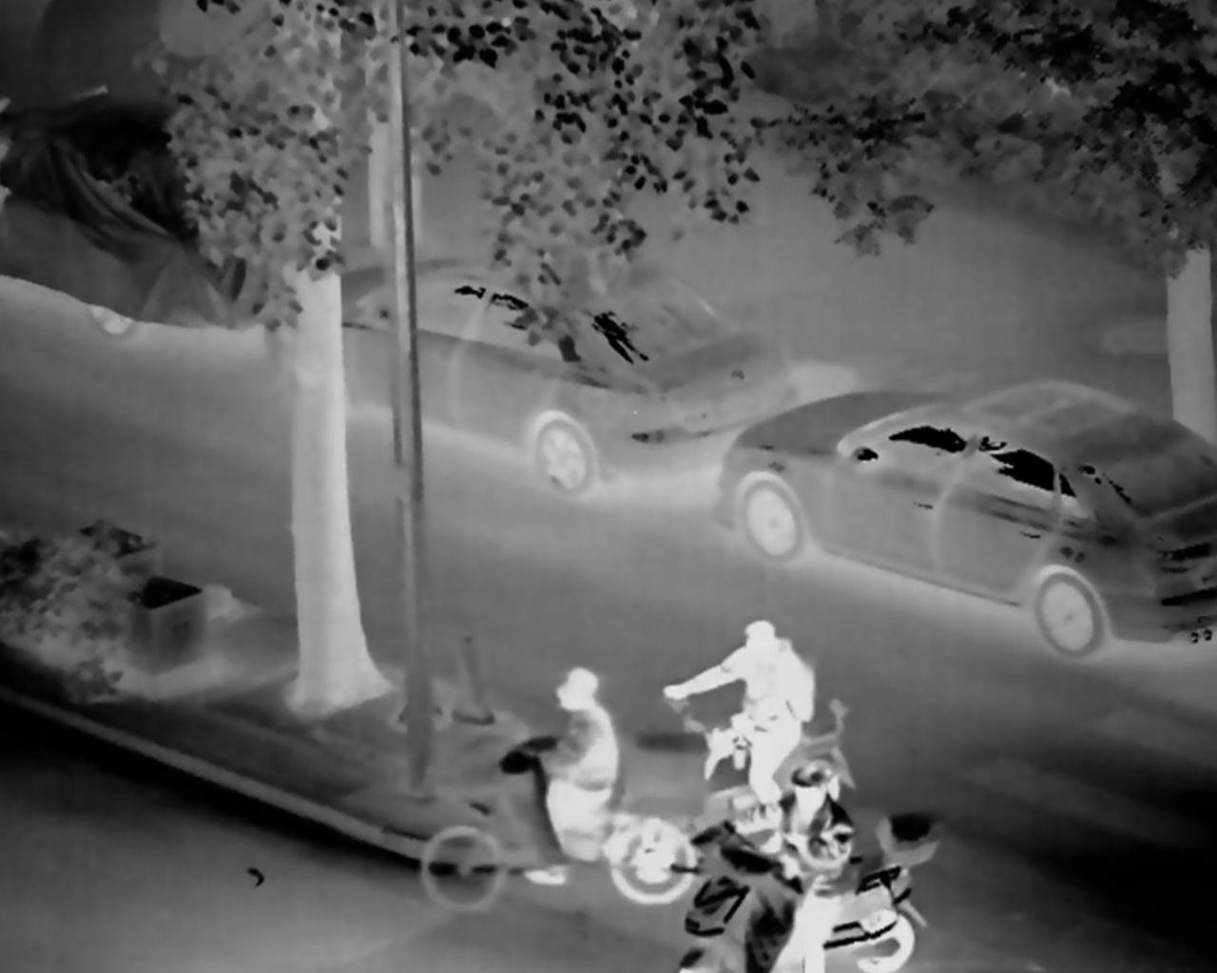person: (729, 769, 894, 973), (663, 604, 818, 814), (524, 668, 632, 881)
